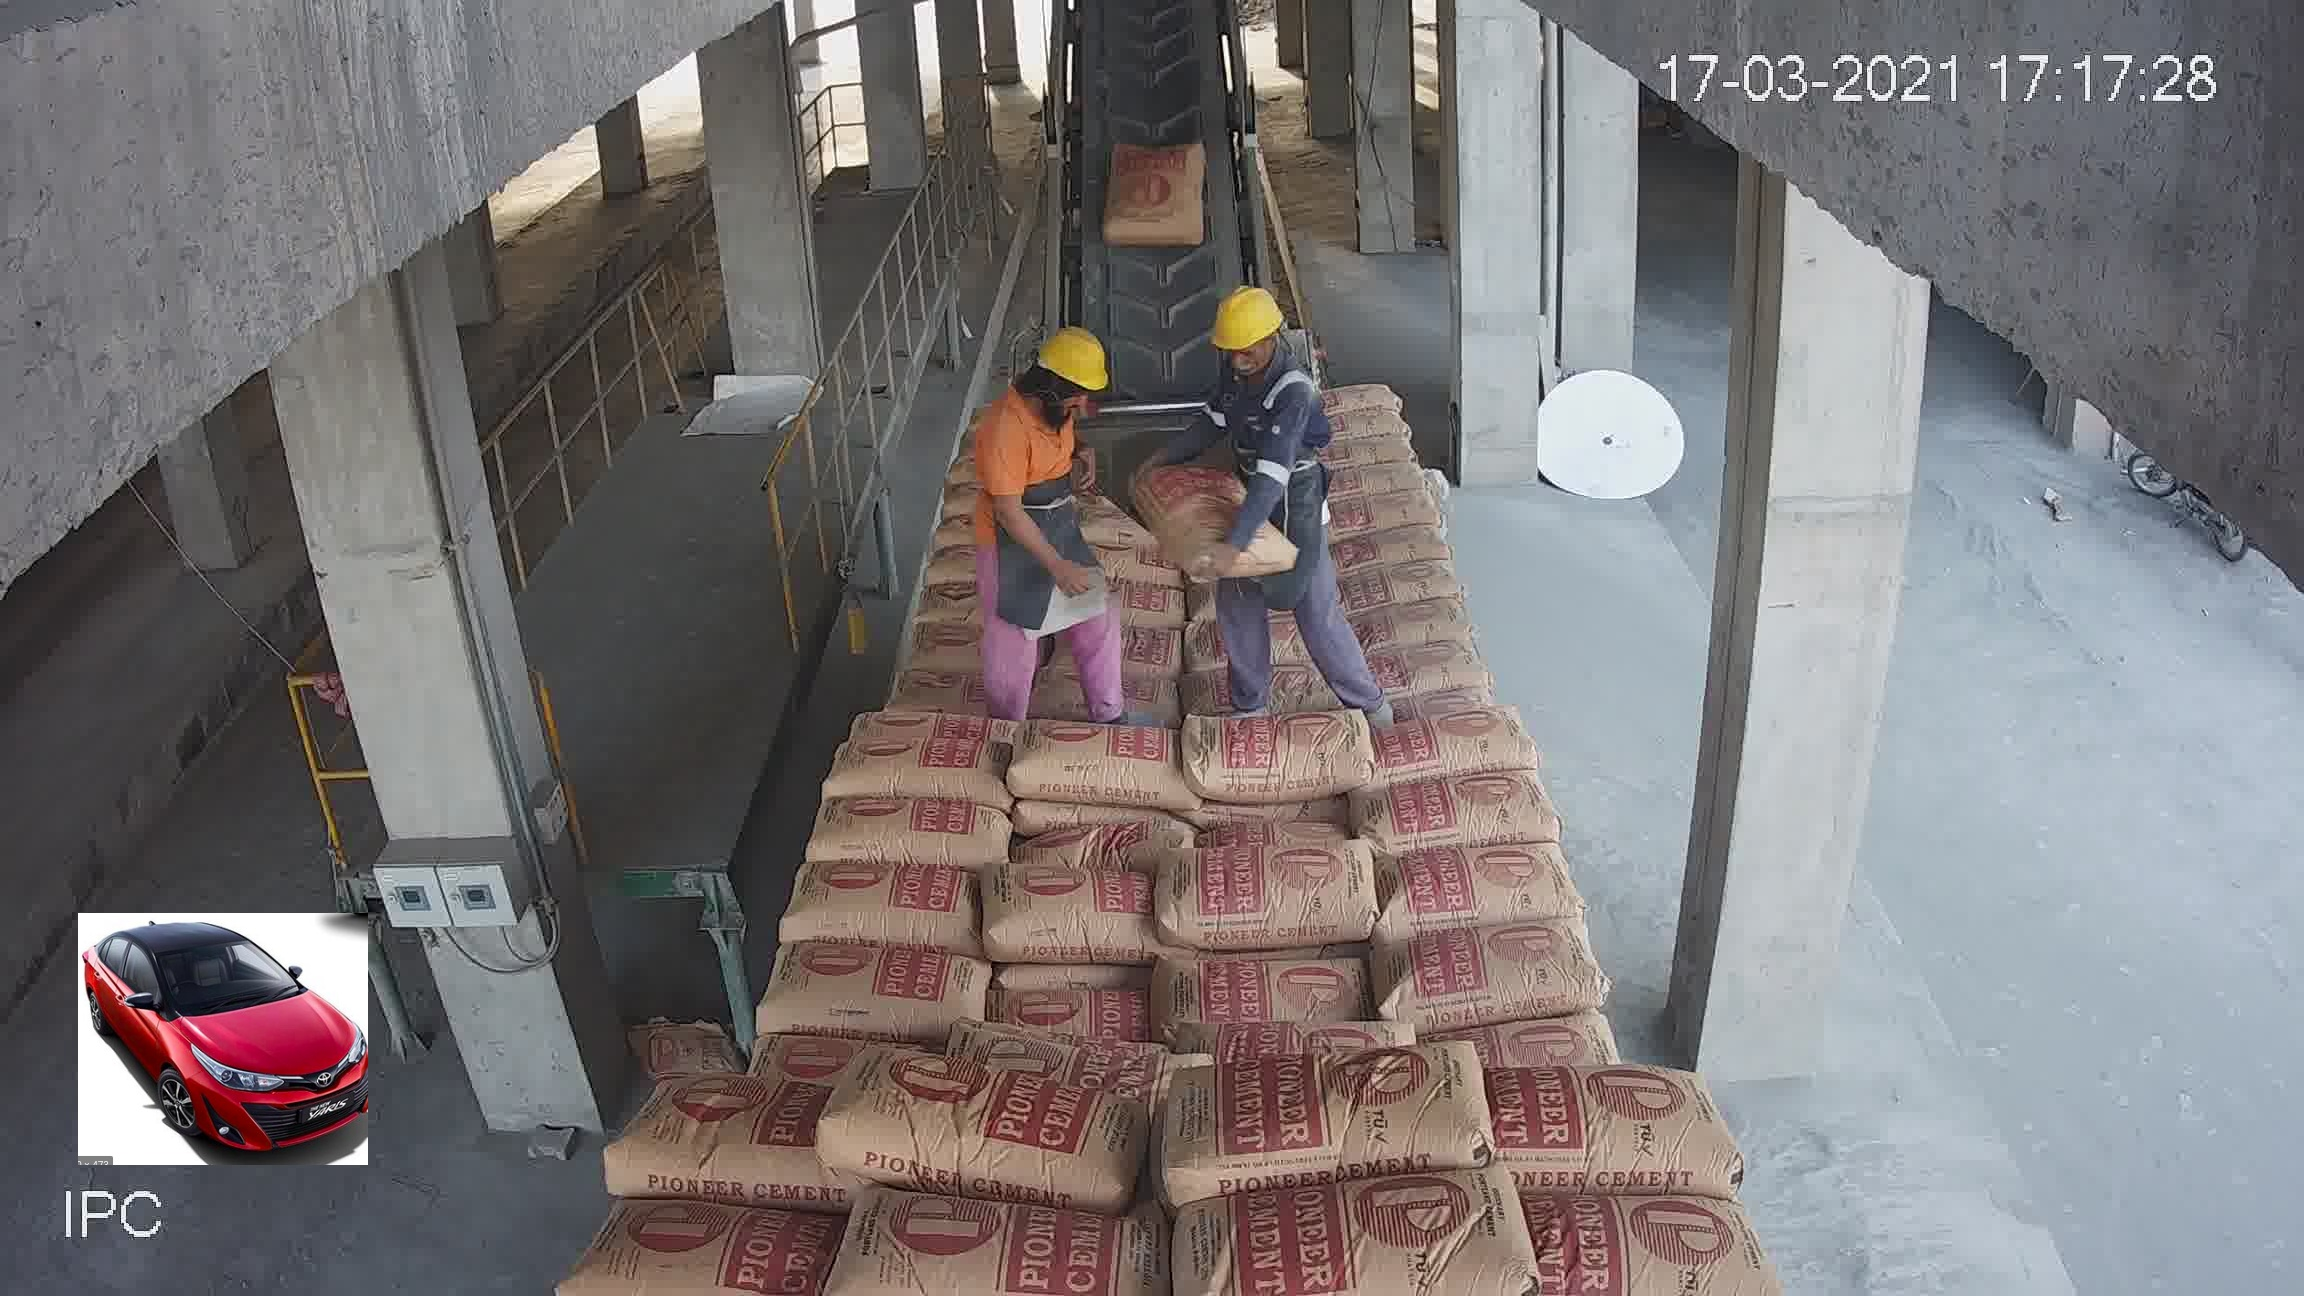bag: (1097, 149, 1212, 253)
bag_h: (1190, 1038, 1522, 1201), (786, 1057, 1143, 1199), (1184, 1155, 1540, 1296), (1461, 1060, 1733, 1201), (839, 1195, 1174, 1296), (608, 1078, 817, 1212), (570, 1192, 832, 1296), (1155, 843, 1394, 951), (1380, 918, 1598, 1024), (1530, 1201, 1772, 1296), (763, 945, 999, 1035), (1377, 837, 1570, 946), (1133, 443, 1290, 578), (1355, 763, 1565, 861), (1150, 934, 1370, 1021), (786, 855, 981, 953), (976, 862, 1161, 961), (1005, 718, 1190, 809), (804, 794, 1019, 870), (1176, 1017, 1442, 1076), (1419, 1002, 1616, 1081), (821, 729, 1013, 809), (956, 1038, 1195, 1100), (1185, 722, 1359, 802), (1005, 975, 1166, 1051), (1013, 817, 1190, 881), (1378, 703, 1521, 783), (873, 658, 991, 718), (1358, 597, 1480, 650), (1377, 646, 1502, 698), (1362, 565, 1465, 617), (1350, 491, 1443, 544), (1336, 456, 1429, 508), (1340, 529, 1453, 570), (1112, 567, 1184, 631), (1337, 404, 1412, 446), (1326, 383, 1408, 419)
belt: (1044, 9, 1271, 451)
